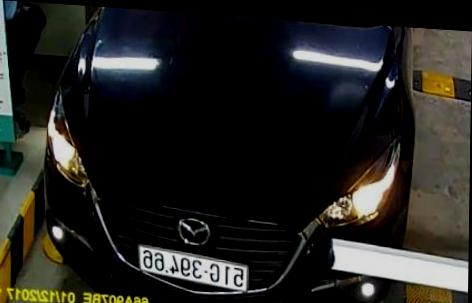License_Plate: (136, 246, 246, 292)
